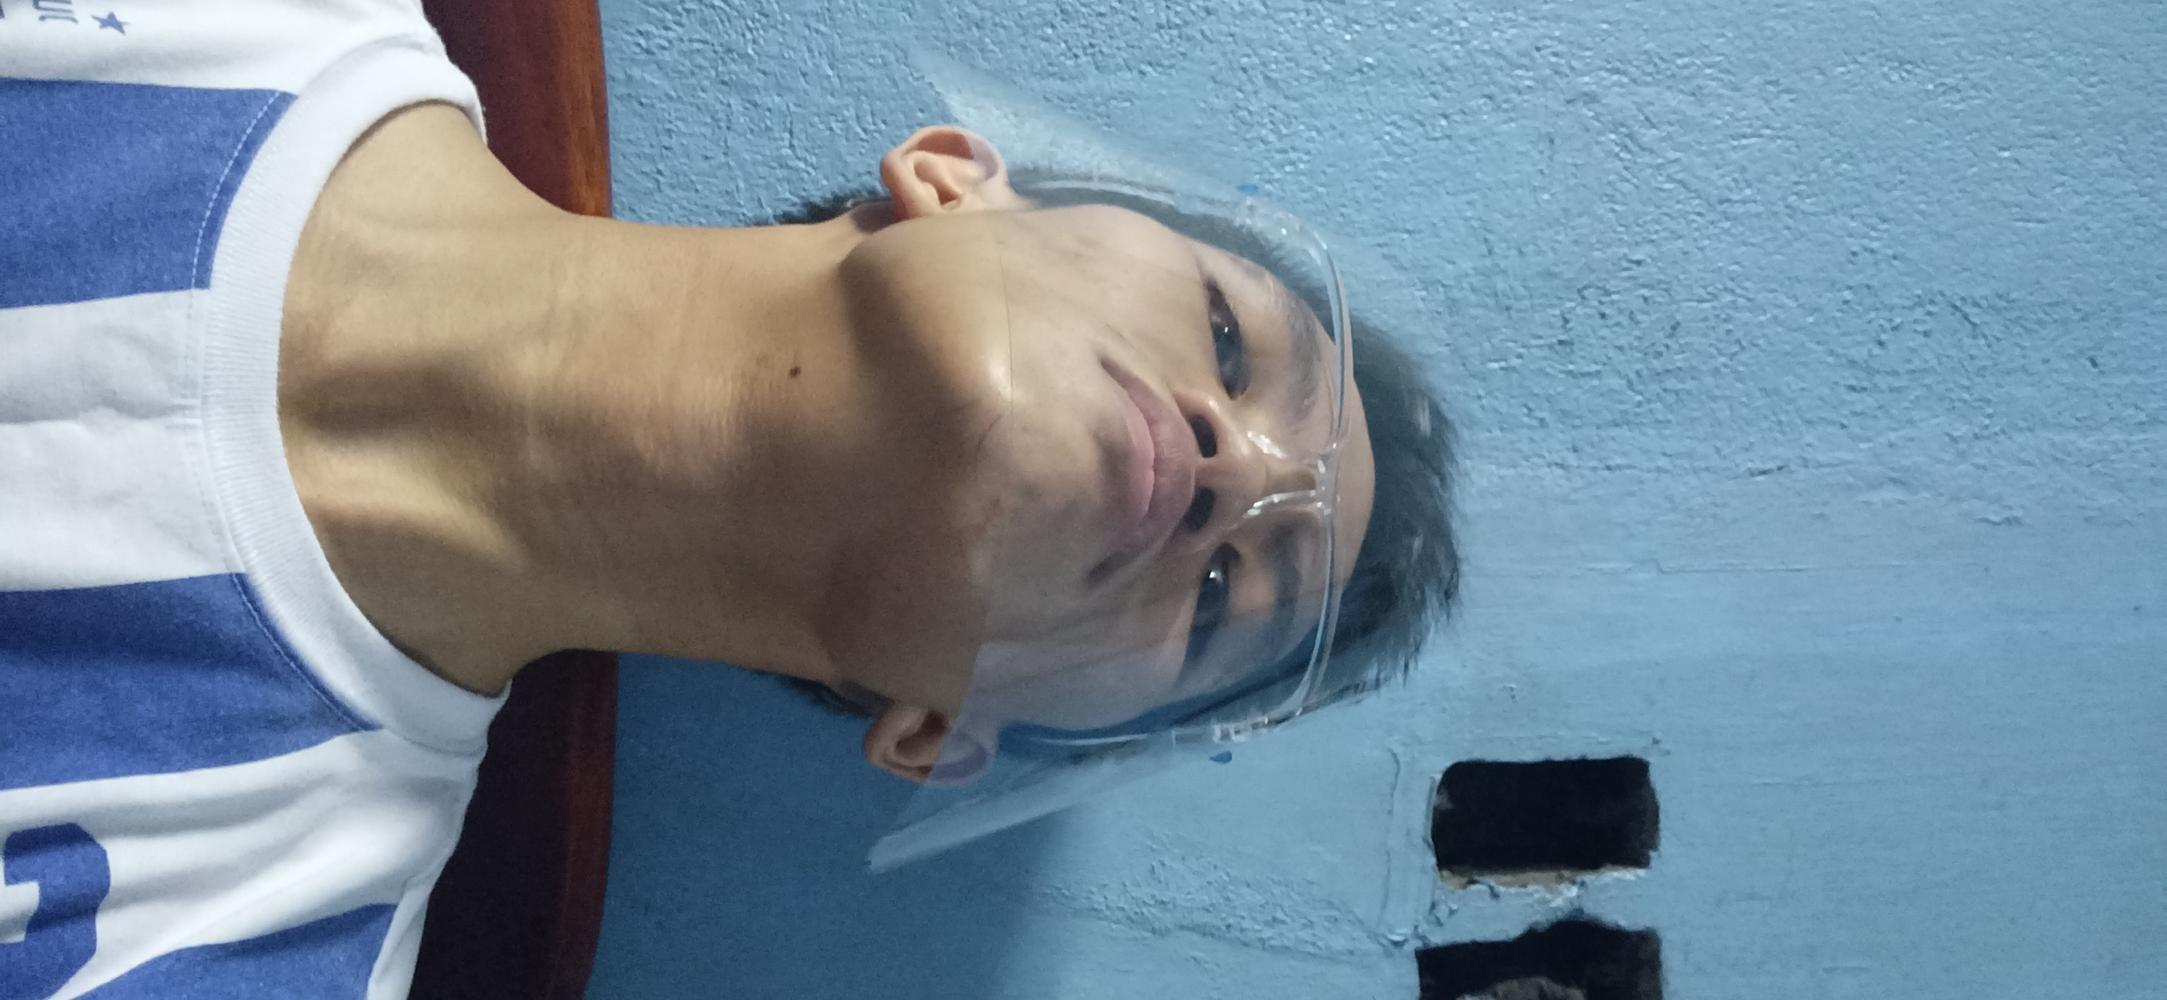Face Shield: (928, 53, 1354, 865)
Undefined Object: (12, 20, 506, 1000)
